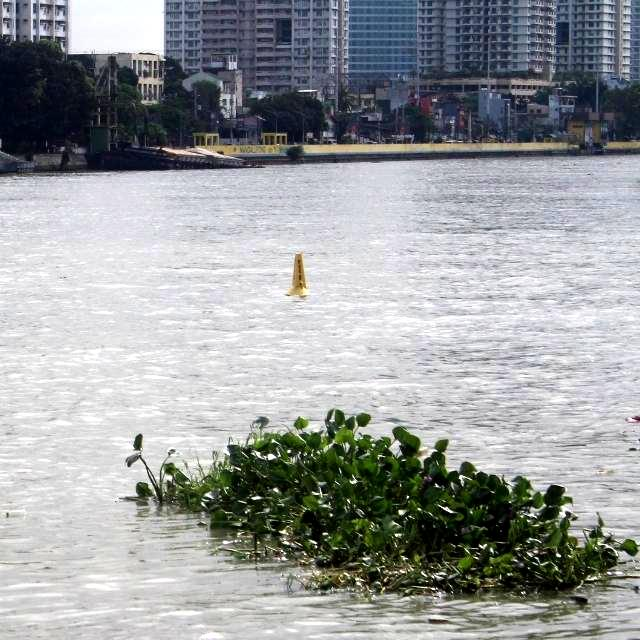water-hyacinth: (127, 407, 640, 616)
